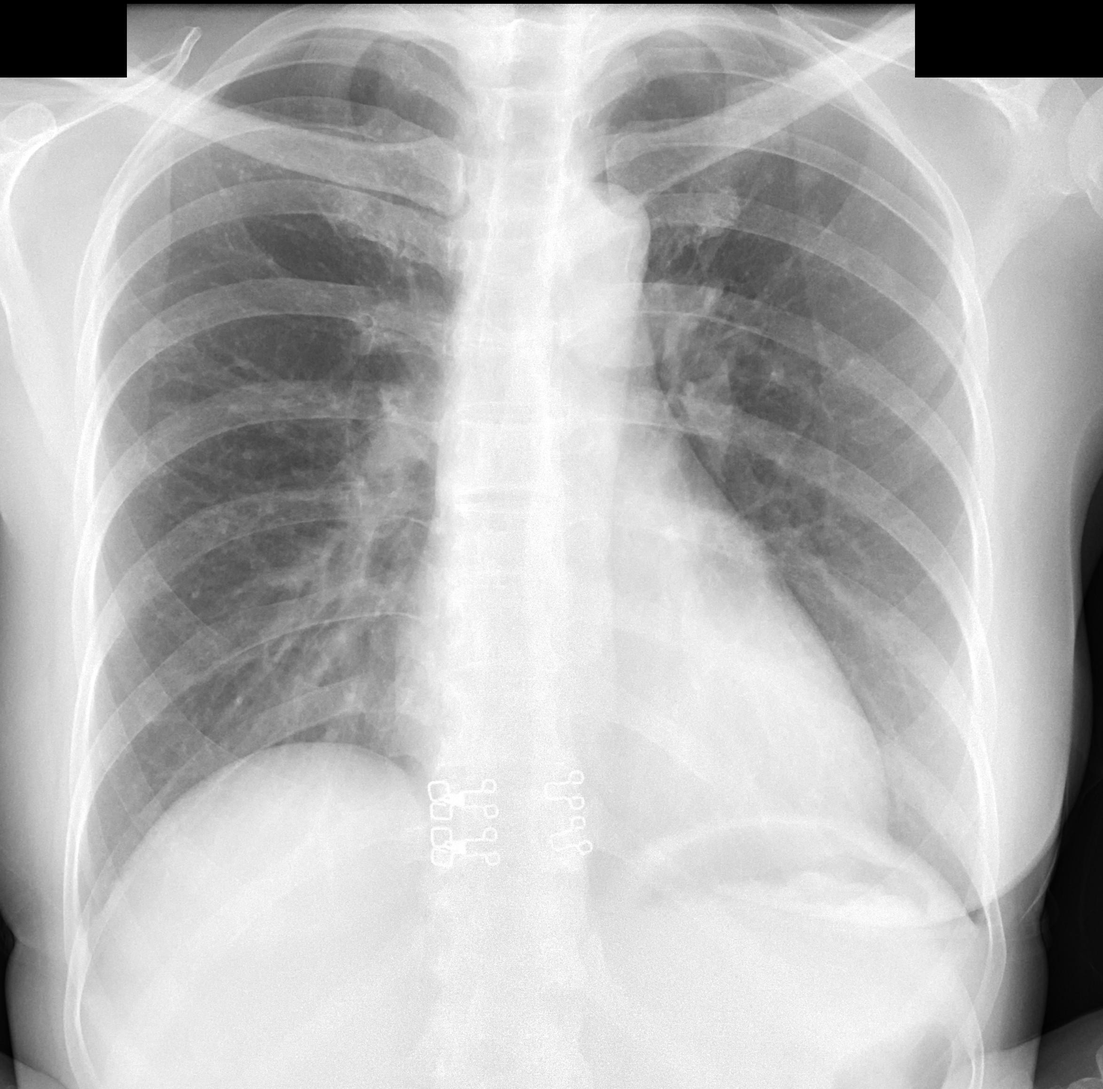Cardiomegaly: (380, 622, 903, 875)
